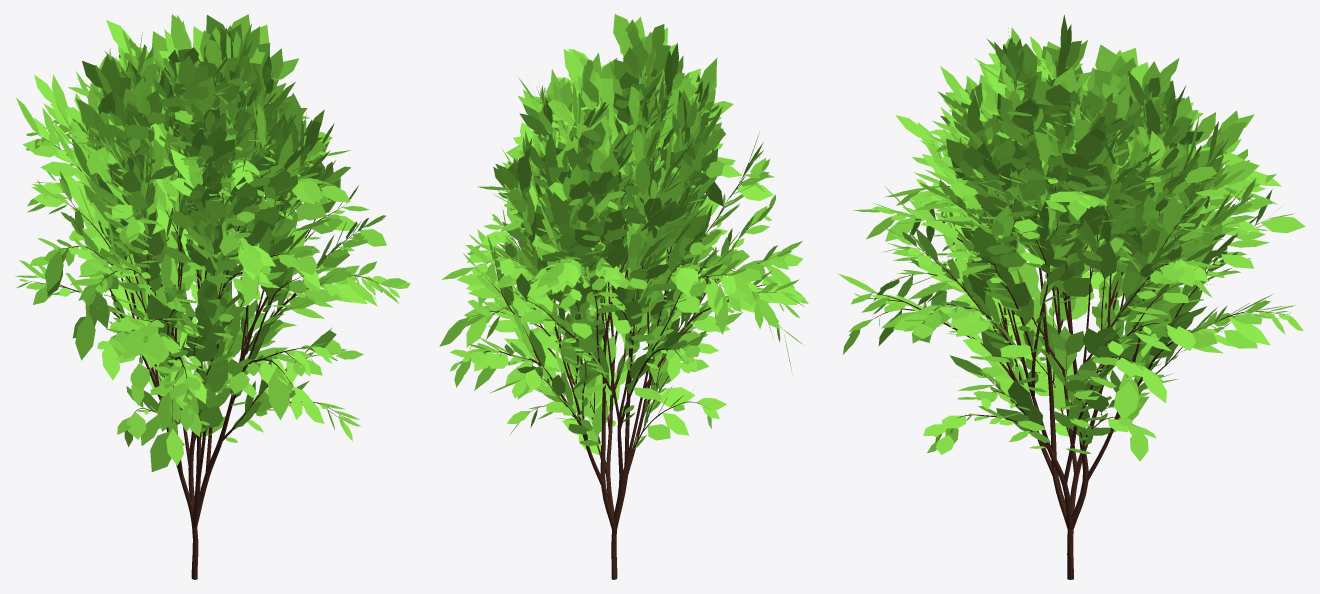
File: Tree.fbx
3 renders of one model, left to right at view 1: azimuth 30°, elevation 25°; view 2: azimuth 150°, elevation 25°; view 3: azimuth 270°, elevation 25°, orthographic. The views are drawn at different scales.
Parts seen in each view (by area): view 1: leaves, Tree; view 2: leaves, Tree; view 3: leaves, Tree.
Boxes of the visible parts, left/top/right/bottom form: leaves: left=15, top=14, right=410, bottom=471; Tree: left=29, top=58, right=379, bottom=579; leaves: left=439, top=14, right=808, bottom=454; Tree: left=460, top=97, right=782, bottom=579; leaves: left=838, top=15, right=1305, bottom=461; Tree: left=866, top=78, right=1287, bottom=579.
Bounding box in the file's own units: 2.34 × 4.28 × 3.29.
Materials: 2 (1 with a texture image).
